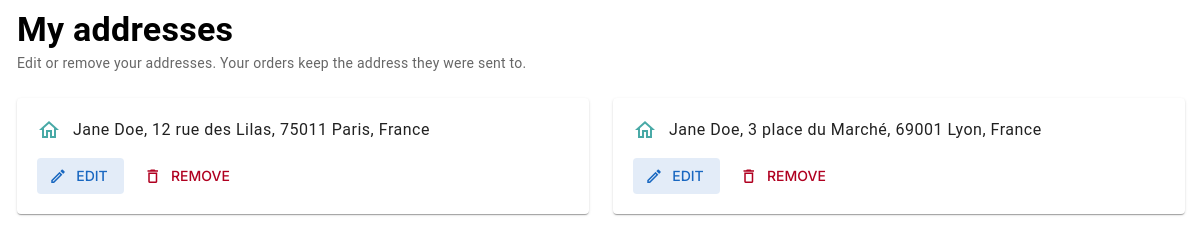
Test: AddressBook.vue › removes an address
Step 1. Click the 1st button "Remove" → point(189, 176), box [132, 158, 246, 194]
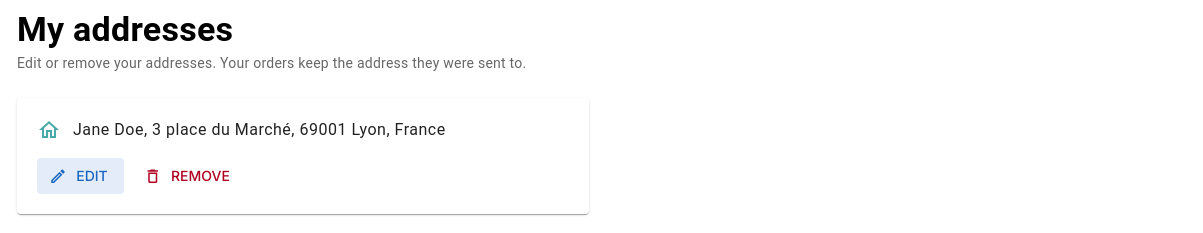
Expected: the text "12 rue des Lilas" is gone
